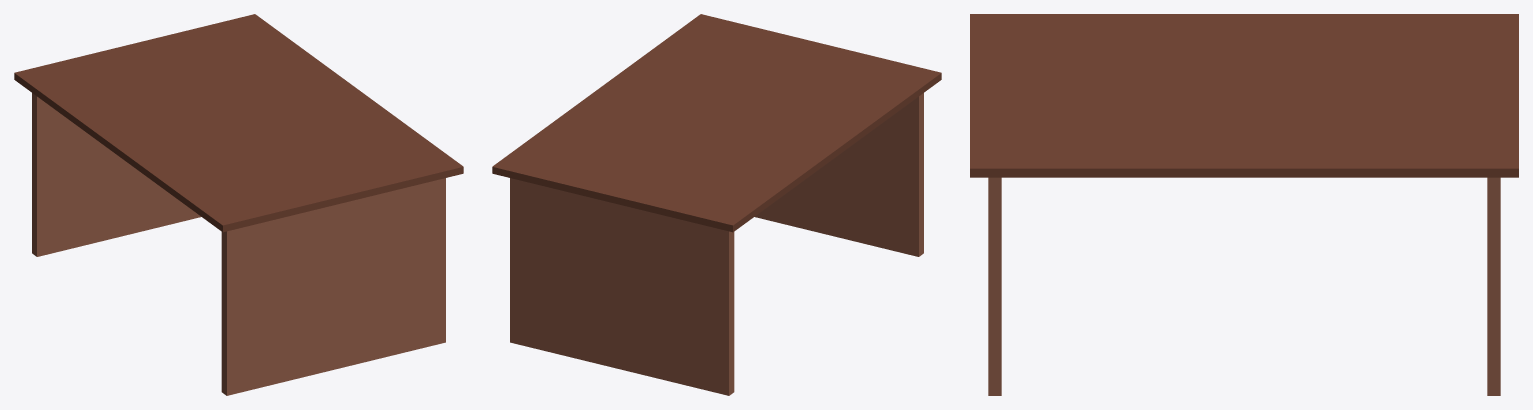
Rendered from BasicBigTable1.fbx.
3 views of the same model, side by side, from view 1: azimuth 30°, elevation 25°; view 2: azimuth 150°, elevation 25°; view 3: azimuth 270°, elevation 25° (orthographic). The views are drawn at different scales.
Visible parts, largest first — view 1: Bigtable; view 2: Bigtable; view 3: Bigtable.
Part boxes in pixels (bbox=[...]): Bigtable: bbox=[14, 14, 463, 395]; Bigtable: bbox=[492, 14, 941, 395]; Bigtable: bbox=[970, 14, 1518, 395].
Bounding box in the file's own units: 660 × 311 × 440.
